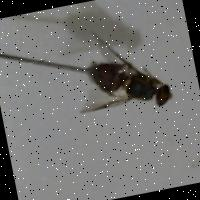Oriental-fruit-fly: (52, 3, 198, 138)
